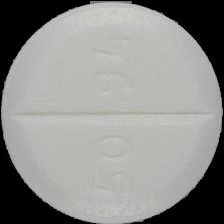63629-1605: (0, 0, 224, 224)
